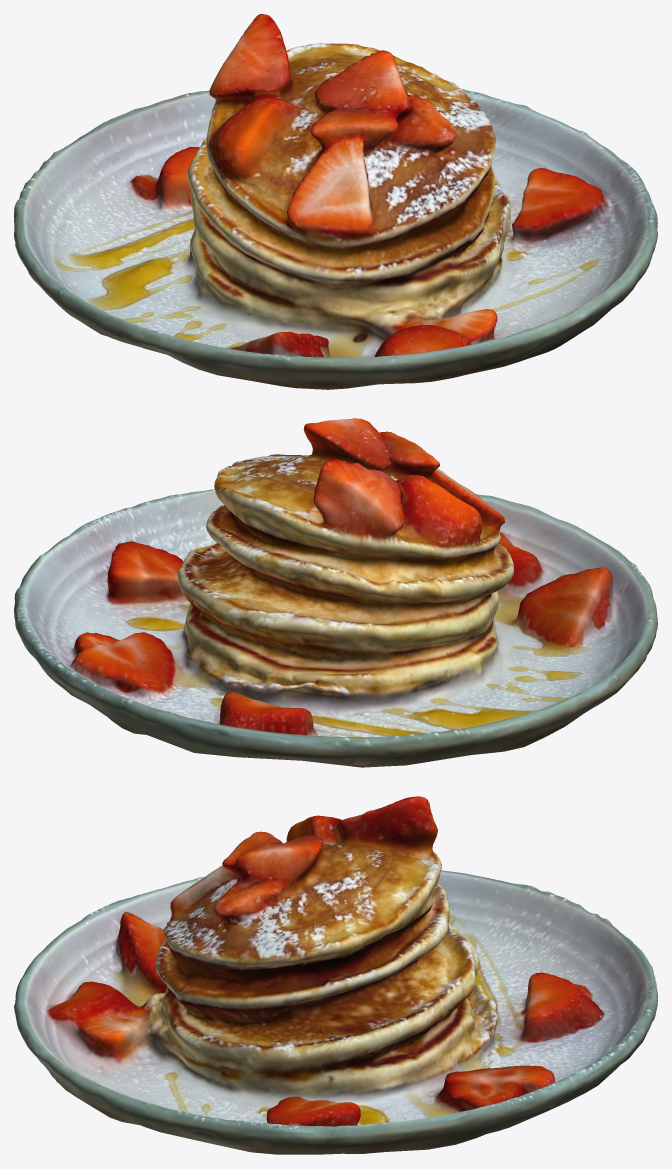
The model's file is StrawberryPancake.glb.
3 views of the same model, one above another, from view 1: azimuth 30°, elevation 25°; view 2: azimuth 150°, elevation 25°; view 3: azimuth 270°, elevation 25° (orthographic).
Visible parts, largest first — view 1: mesh_0; view 2: mesh_0; view 3: mesh_0.
Part boxes in pixels (<box>): mesh_0: <box>14,14,657,389</box>; mesh_0: <box>14,418,657,767</box>; mesh_0: <box>14,796,657,1154</box>.
Size of the model in its own units: 0.3168 by 0.1332 by 0.3158.
1 material, 1 textured.
